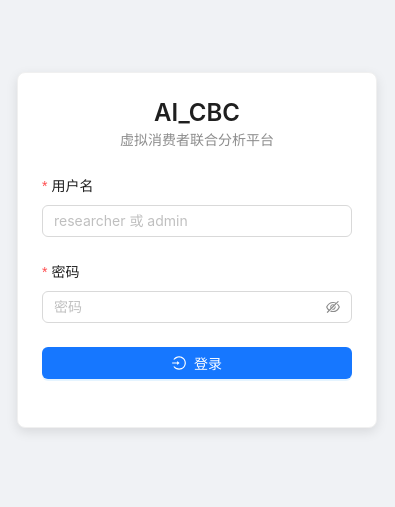
Test: Login page › shows error on failure
The width and height of the screenshot is (395, 507).
Type "researcher" into the field with placeholder "researcher 或 admin". click: (197, 221)
box: left=42, top=205, right=352, bottom=237
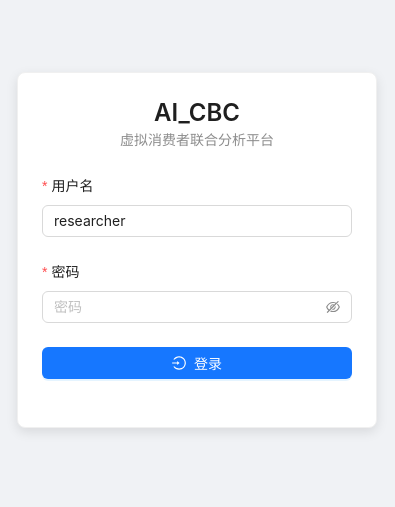
Type "wrong" into the password field with placeholder "密码". click: (188, 307)
box: left=54, top=296, right=322, bottom=318
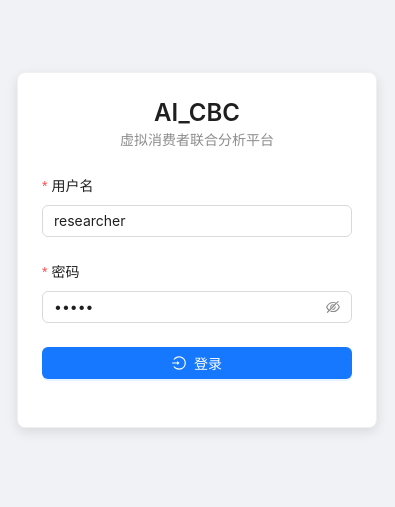
Click the button "登录". click: (197, 363)
box: left=42, top=347, right=352, bottom=379
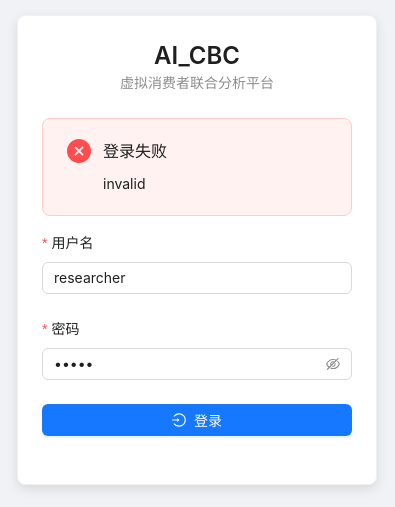
Check: the text "invalid" is shown, box left=103, top=175, right=146, bottom=192
